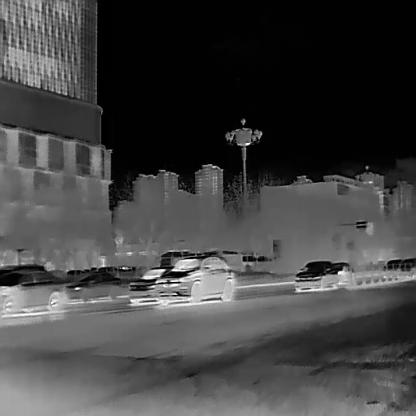bus: (158, 250, 190, 268)
car: (153, 254, 238, 305), (0, 269, 65, 313), (65, 270, 129, 302), (127, 266, 172, 296), (294, 260, 332, 291), (320, 261, 354, 290), (383, 258, 403, 270), (399, 256, 415, 271)
